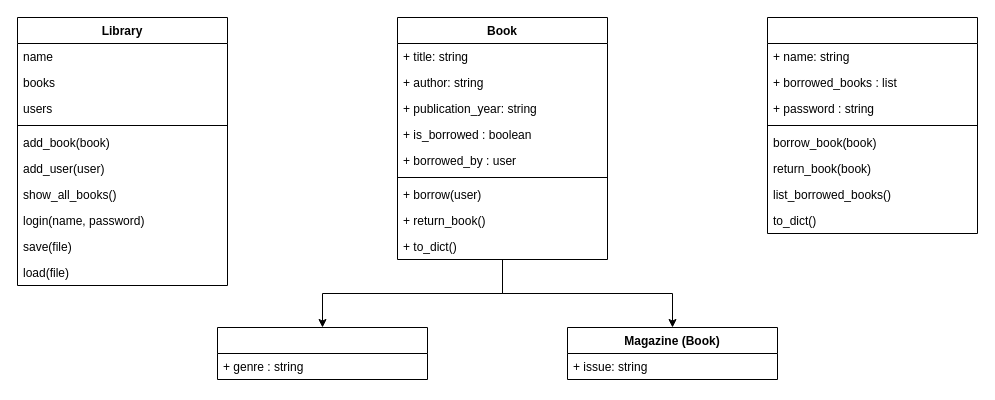
Image size: 995x400. Some labels were removed from this diagram. Here are the shapes that lost their labels. From the top down, the box of each, then its label:
(766, 16, 978, 234): User
(216, 326, 428, 380): Novel (Book)
